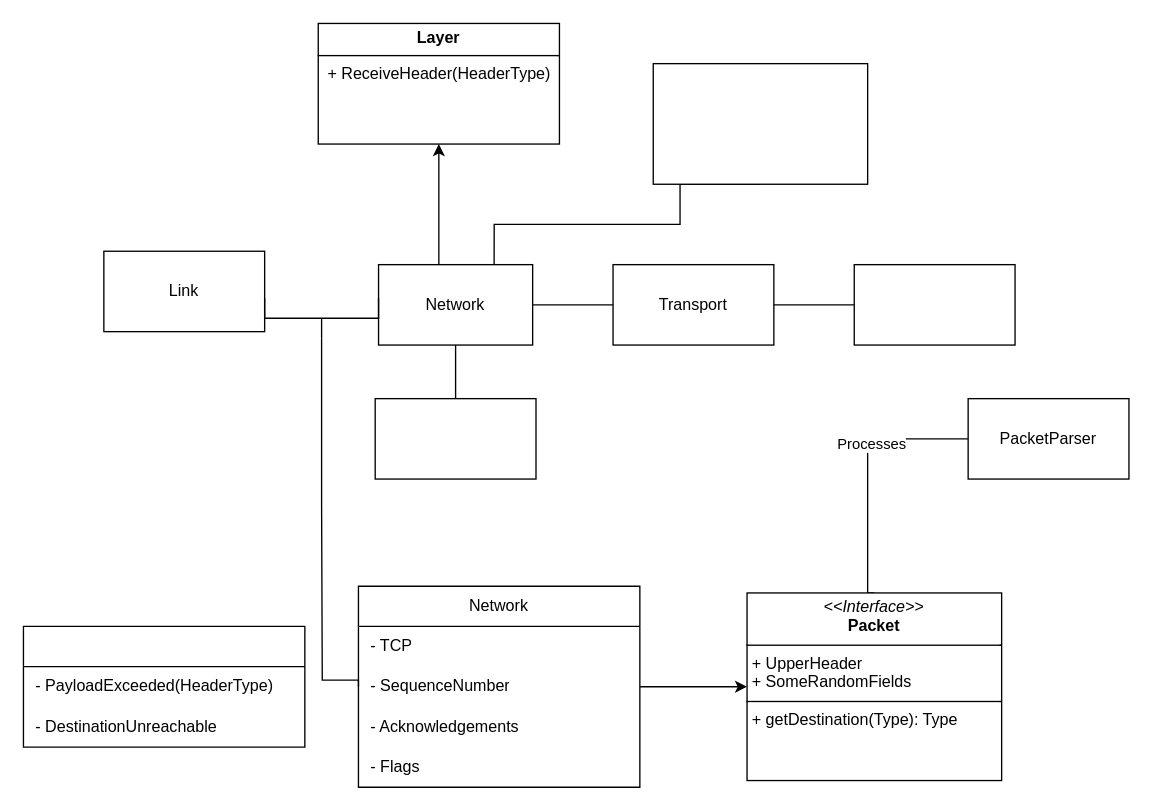
This 1152x811 diagram has some shape labels left out. The shapes that lost their labels are listed below. From the top down, each one's box as (x1, y1, x2, y2) in pixels, then its label:
(652, 62, 868, 184): Object: Routing Table - - -
(853, 263, 1015, 345): APP/TUI
(374, 397, 536, 479): DA
(22, 625, 305, 747): Exceptions
